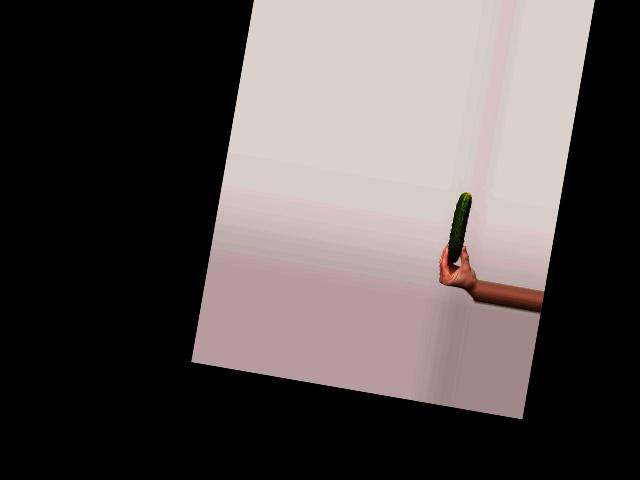cucumber: (445, 191, 471, 263)
